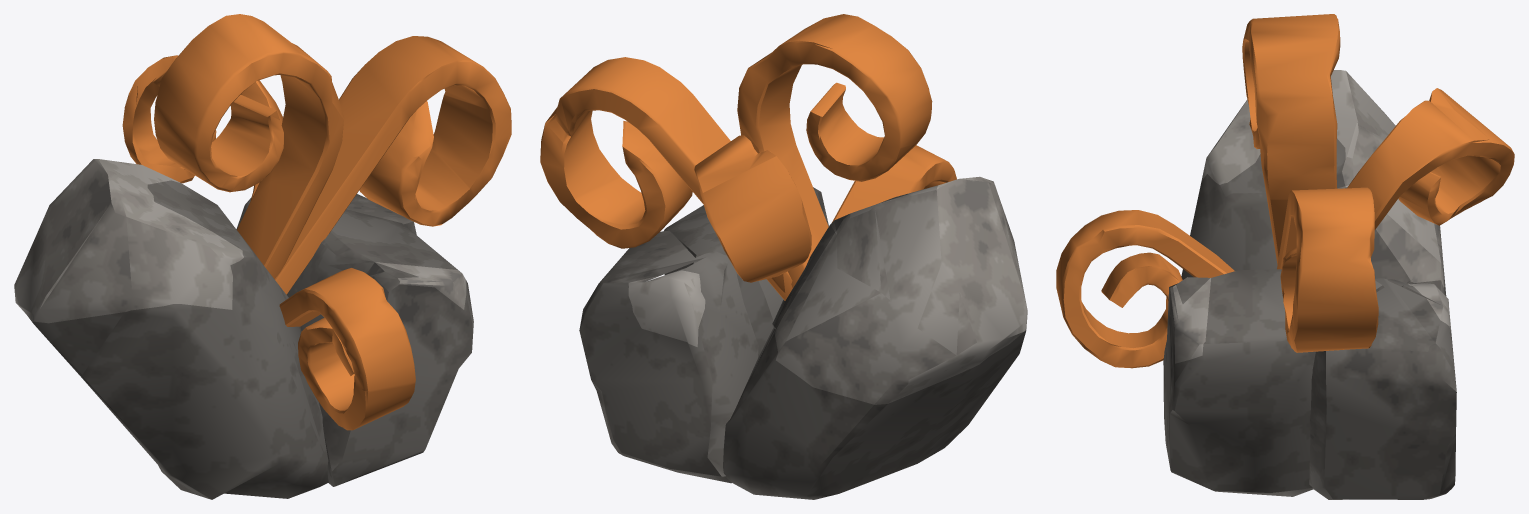
File: copper_ribbons_ore.glb
3 views of the same model, side by side, from view 1: azimuth 30°, elevation 25°; view 2: azimuth 150°, elevation 25°; view 3: azimuth 270°, elevation 25° (orthographic).
Visible parts, largest first — view 1: CopperRibbonsOre; view 2: CopperRibbonsOre; view 3: CopperRibbonsOre.
Boxes of the visible parts, bbox=[...] form: CopperRibbonsOre: bbox=[14, 14, 511, 499]; CopperRibbonsOre: bbox=[540, 14, 1027, 499]; CopperRibbonsOre: bbox=[1056, 14, 1514, 499].
Size of the model in its own units: 0.4 by 0.3427 by 0.3423.
Materials: 3 (2 with a texture image).
